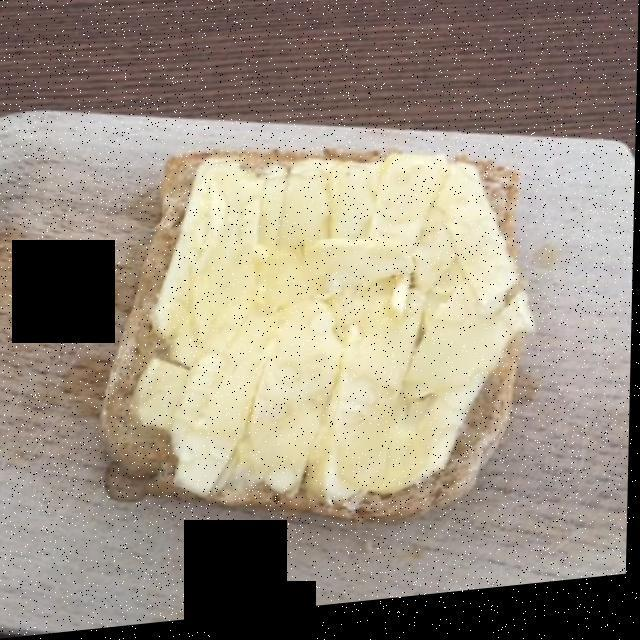bread: (107, 163, 531, 514)
butter: (139, 158, 522, 517)
